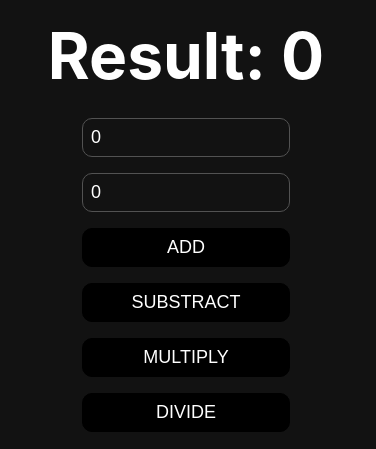
Scenario: Calculator › method "substract" really adds numbers into result constant
Replace the text in the number field with test id "number1" with "200" at coordinates (186, 137), box 82,118 -> 290,156
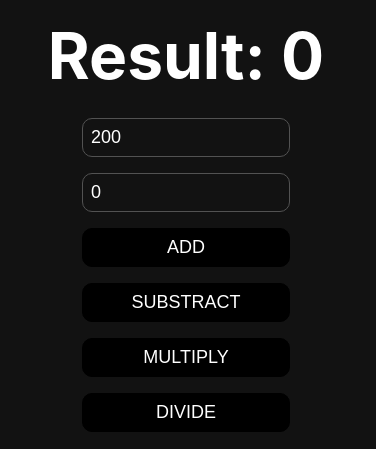
Replace the text in the number field with test id "number2" with "100" at coordinates (186, 192), box 82,172 -> 290,212
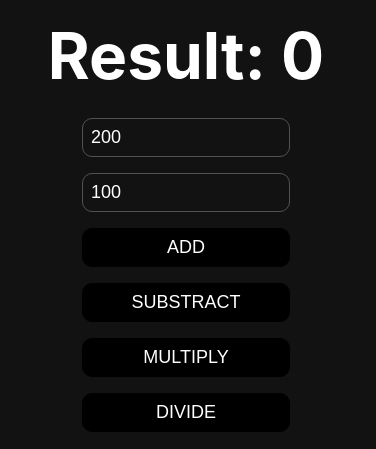
Click the button with test id "substract" at coordinates (186, 302), box 82,282 -> 290,322
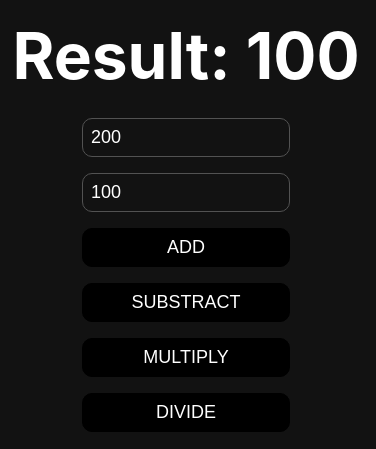
Expected: the text with test id "result" shows "100", 246,16 -> 360,94
